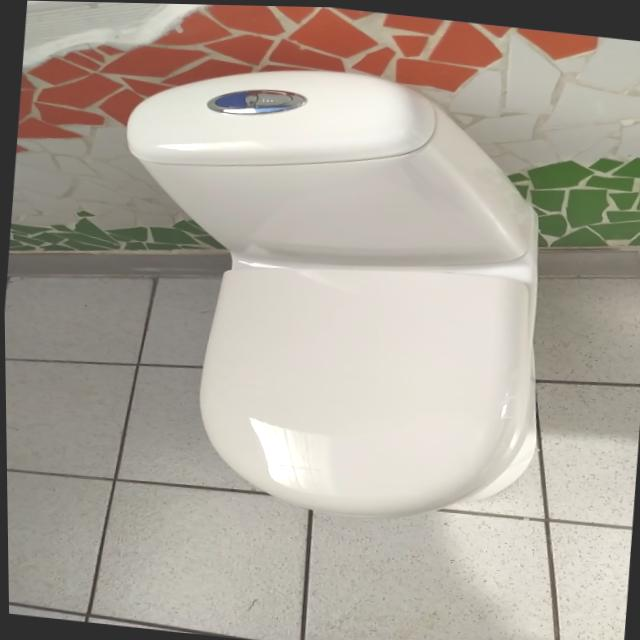toilet: (93, 46, 568, 534)
